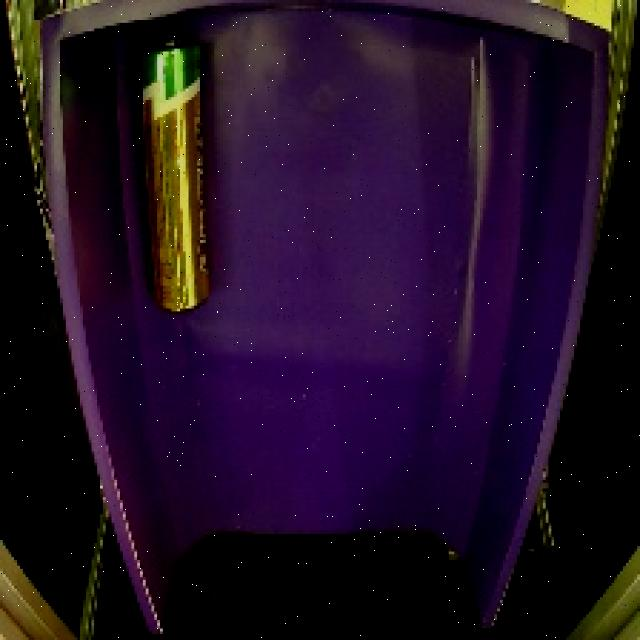battery: (129, 30, 222, 323)
